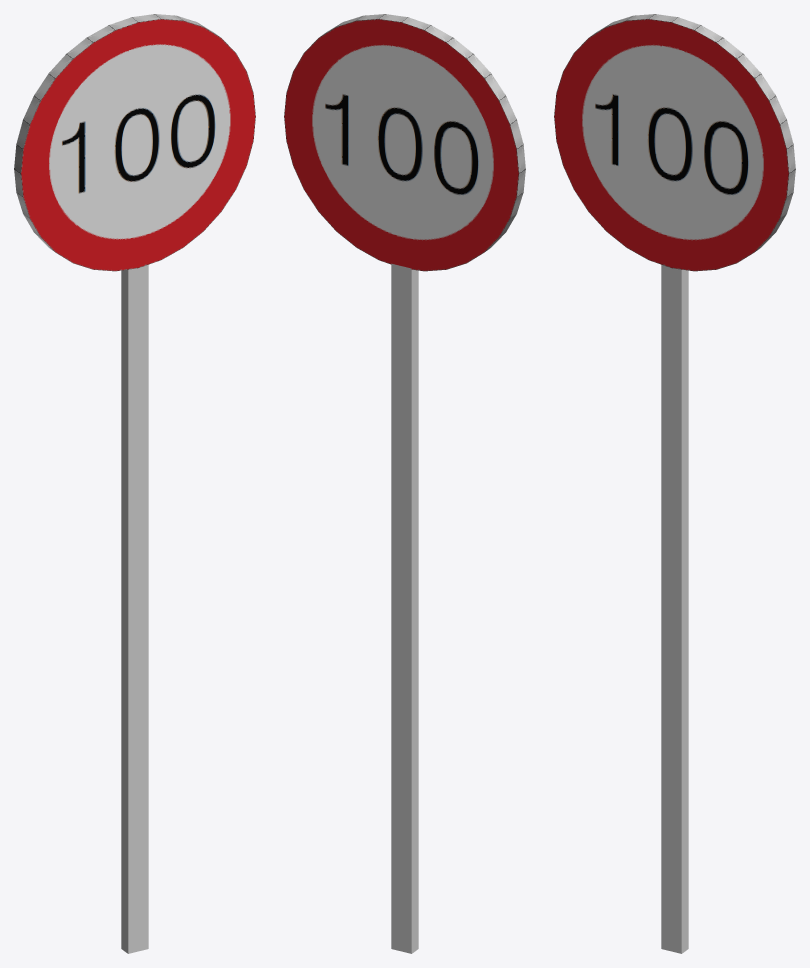
File: speedlimit_100.fbx
The picture shows the model from 3 angles, left to right: view 1: azimuth 30°, elevation 25°; view 2: azimuth 150°, elevation 25°; view 3: azimuth 330°, elevation 25°; orthographic projection.
Parts seen in each view (by area): view 1: Cylinder, Cube; view 2: Cylinder, Cube; view 3: Cylinder, Cube.
Part boxes in pixels (x1=…): Cylinder: x1=14, y1=14, x2=255, y2=271; Cube: x1=121, y1=264, x2=148, y2=953; Cylinder: x1=284, y1=14, x2=525, y2=271; Cube: x1=391, y1=263, x2=418, y2=953; Cylinder: x1=554, y1=14, x2=795, y2=271; Cube: x1=661, y1=264, x2=688, y2=953.
Bounding box in the file's own units: 200 × 756 × 10.
